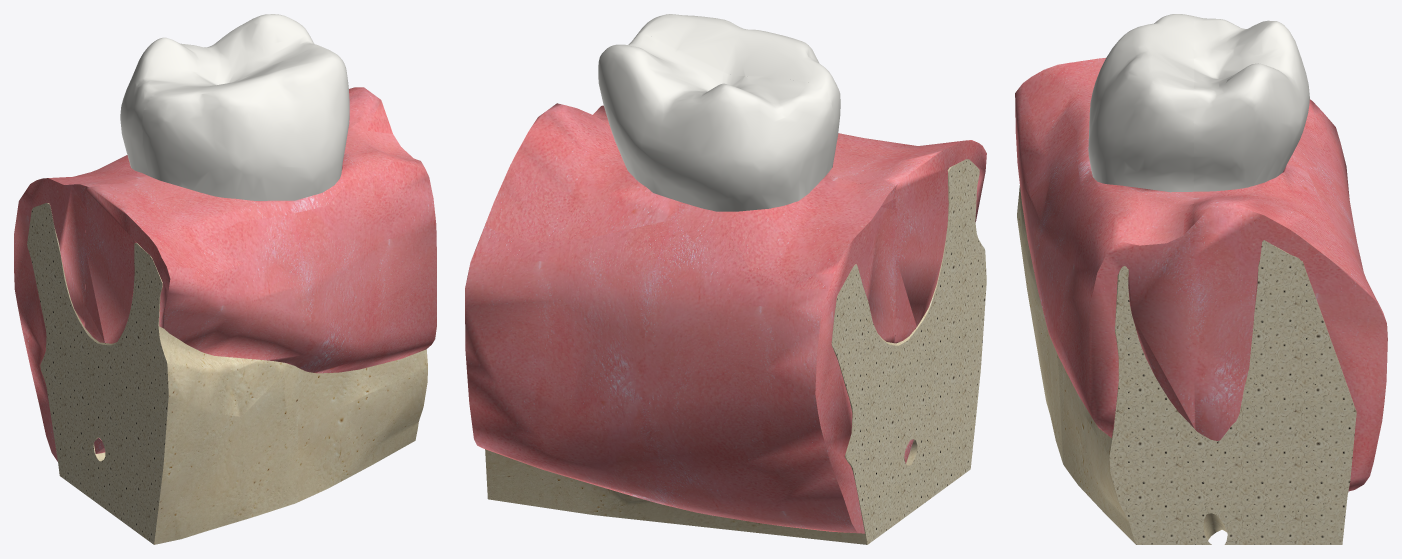
The picture shows the model from 3 angles, left to right: view 1: azimuth 30°, elevation 25°; view 2: azimuth 150°, elevation 25°; view 3: azimuth 270°, elevation 25°; orthographic projection. The views are drawn at different scales.
Visible parts, largest first — view 1: gingiva_b, kompakta_b, schmelz_b, gingiva_a, schmelz_a, kompakta_a; view 2: gingiva_a, schmelz_a, kompakta_b, kompakta_a, gingiva_b, schmelz_b; view 3: gingiva_b, gingiva_a, kompakta_a, kompakta_b, schmelz_a, schmelz_b.
Boxes of the visible parts, x1,y1,x2,y2 form: gingiva_b: [85, 118, 436, 453]; kompakta_b: [85, 243, 427, 544]; schmelz_b: [142, 45, 349, 200]; gingiva_a: [14, 87, 387, 461]; schmelz_a: [120, 14, 317, 175]; kompakta_a: [27, 203, 86, 494]; gingiva_a: [465, 103, 895, 533]; schmelz_a: [598, 32, 833, 211]; kompakta_b: [894, 159, 986, 523]; kompakta_a: [485, 264, 895, 544]; gingiva_b: [593, 105, 986, 463]; schmelz_b: [637, 14, 840, 175]; gingiva_b: [1015, 58, 1193, 437]; gingiva_a: [1194, 99, 1387, 491]; kompakta_a: [1194, 240, 1356, 544]; kompakta_b: [1017, 185, 1193, 544]; schmelz_a: [1194, 16, 1309, 191]; schmelz_b: [1088, 14, 1193, 192].
Size of the model in its own units: 0.0188 by 0.0241 by 0.0189.
Materials: 21 (8 with a texture image).
